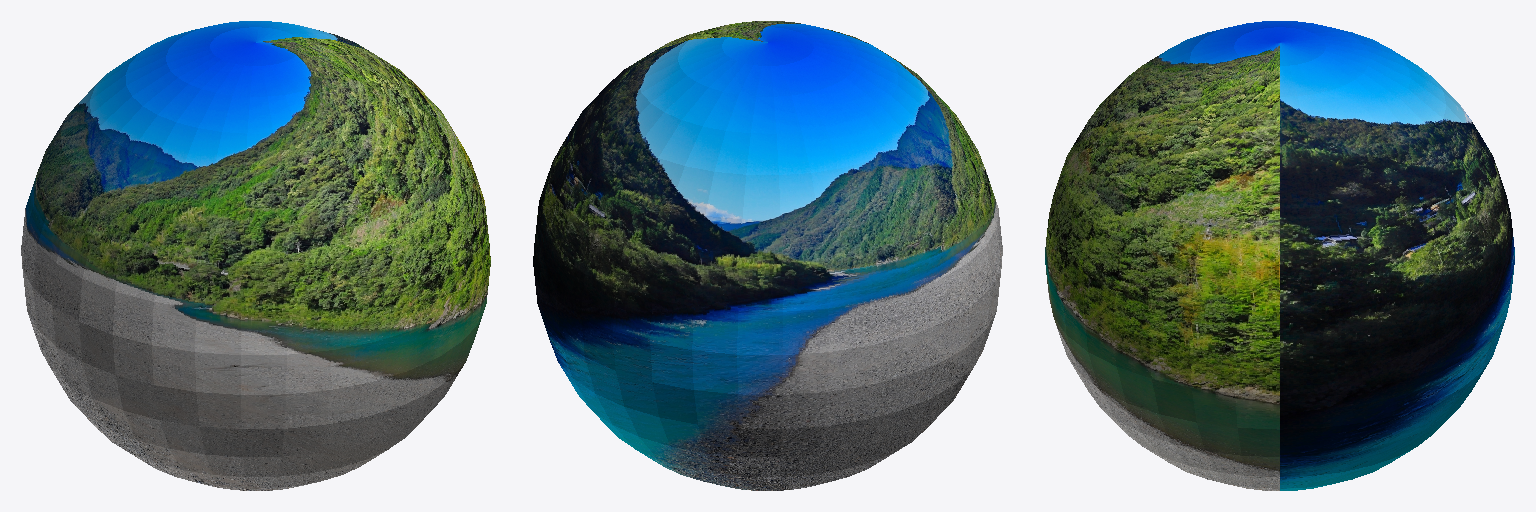
The picture shows the model from 3 angles: view 1: azimuth 30°, elevation 25°; view 2: azimuth 150°, elevation 25°; view 3: azimuth 270°, elevation 25°; orthographic projection.
Visible parts, largest first — view 1: 球; view 2: 球; view 3: 球.
Part boxes in pixels (bbox=[...]): 球: bbox=[21, 21, 490, 490]; 球: bbox=[533, 21, 1002, 490]; 球: bbox=[1045, 21, 1514, 490].
Bounding box in the file's own units: 2 × 2 × 2.
1 materials, 1 textured.